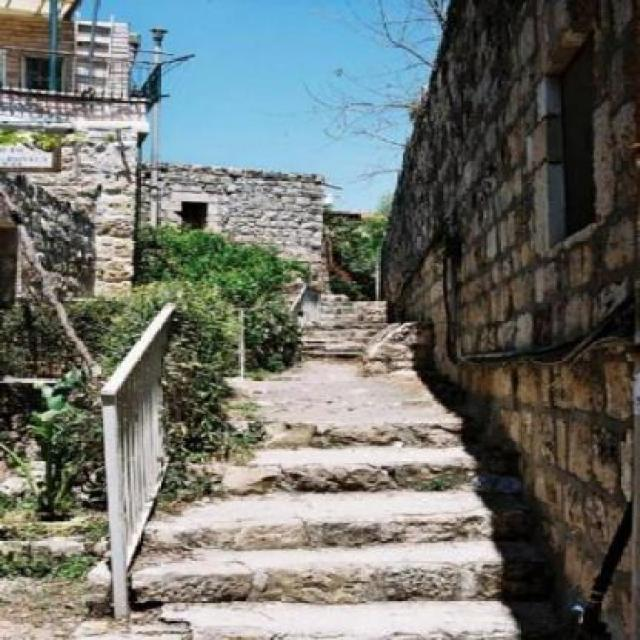stair: (88, 414, 592, 638), (292, 298, 403, 362)
